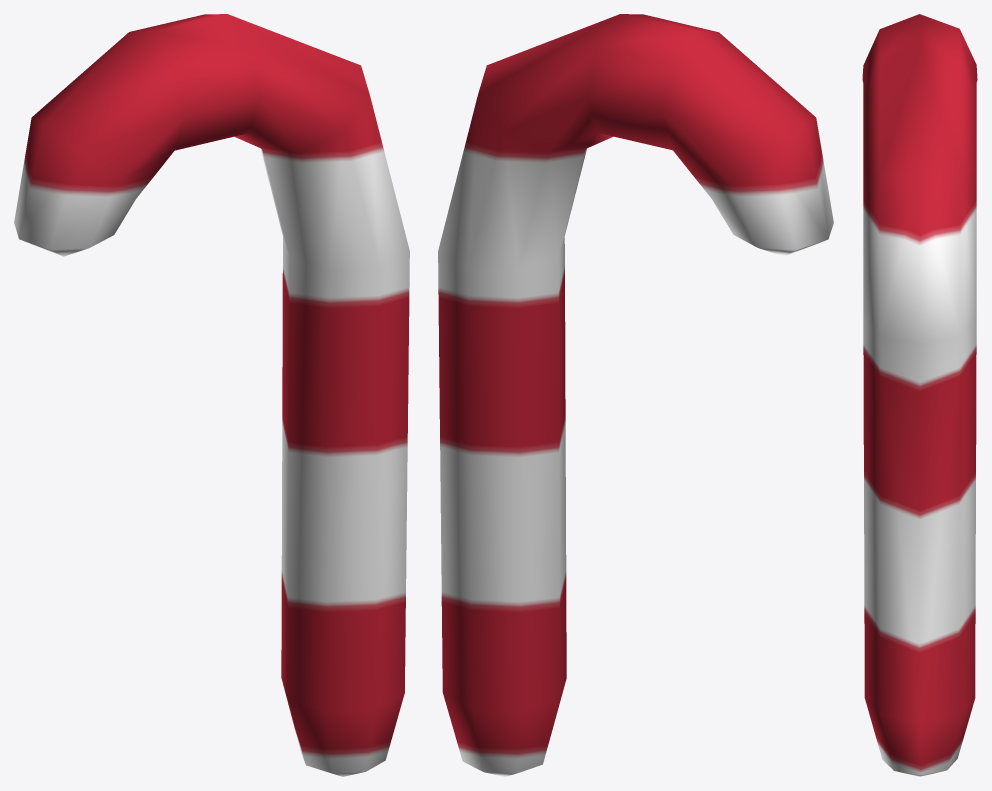
File: CandyCane.glb
3 renders of one model, left to right at view 1: azimuth 30°, elevation 25°; view 2: azimuth 150°, elevation 25°; view 3: azimuth 270°, elevation 25°, orthographic. The views are drawn at different scales.
Parts seen in each view (by area): view 1: CandyCane; view 2: CandyCane; view 3: CandyCane.
Part boxes in pixels (x1,y1,x2,y2): CandyCane: [14, 14, 409, 776]; CandyCane: [438, 14, 833, 776]; CandyCane: [862, 14, 977, 776].
Bounding box in the file's own units: 0.2418 × 0.4763 × 0.0727.
1 material, 1 textured.
